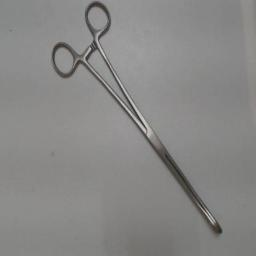Sponge Forceps: (48, 1, 224, 237)
